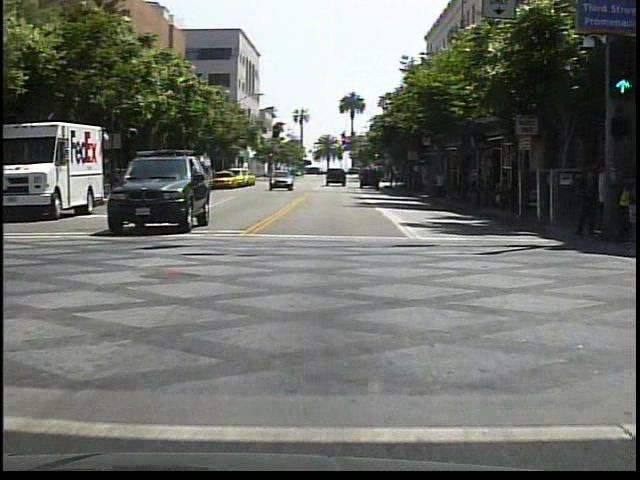person: (570, 155, 600, 240)
